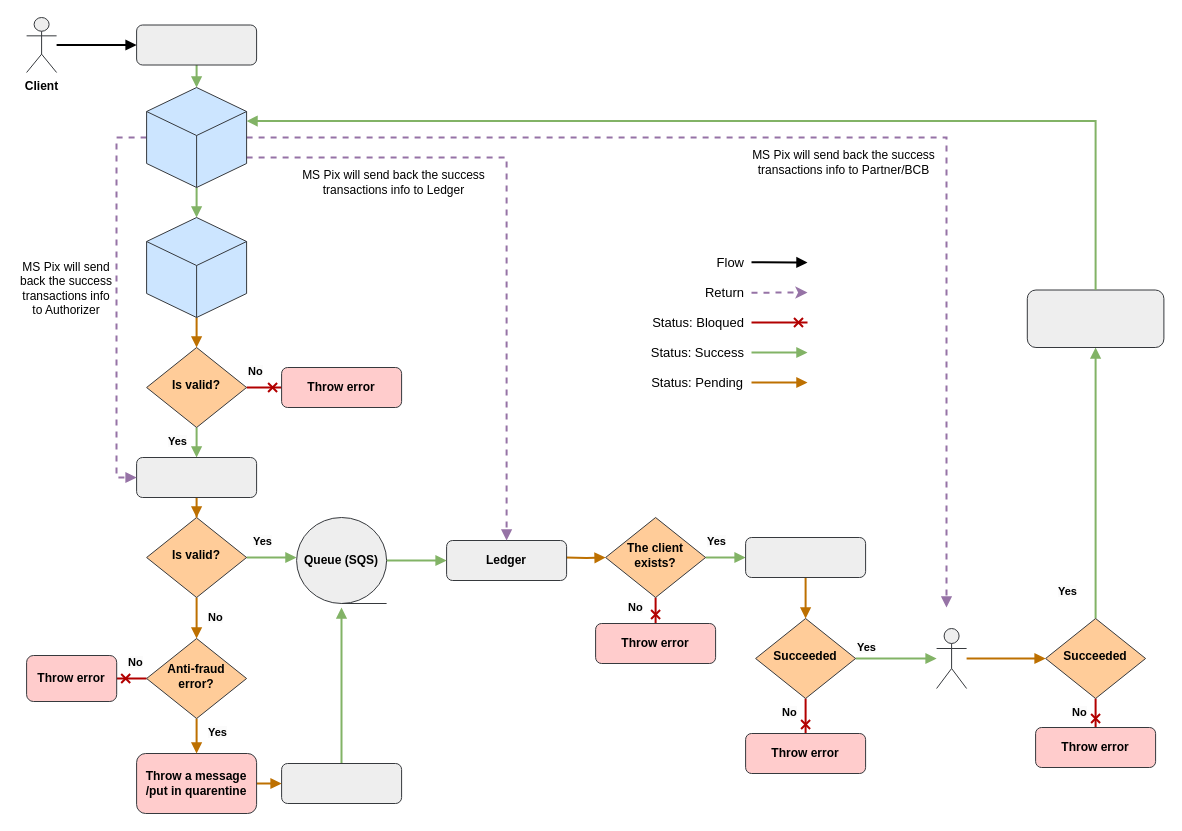
Some shapes in this 1182 by 831 pixel diagram are drawn without their labels. The shapes that lost their labels are listed below. From the top down, each one's centre as x and y in pixels, then its label:
At point (196, 44): "Pix request".
At point (196, 137): "MS - Pix".
At point (196, 267): "MS - PKV".
At point (1095, 318): "Send back the information and finalize the transaction".
At point (196, 477): "Validation by the Authorizer**".
At point (805, 557): "Transaction API".
At point (951, 658): "Partner".
At point (341, 783): "Quarentine OK".
